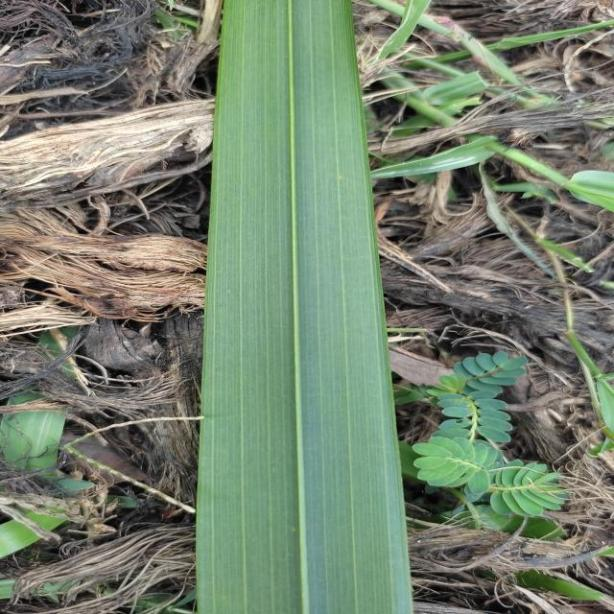Healthy: (191, 1, 412, 614)
